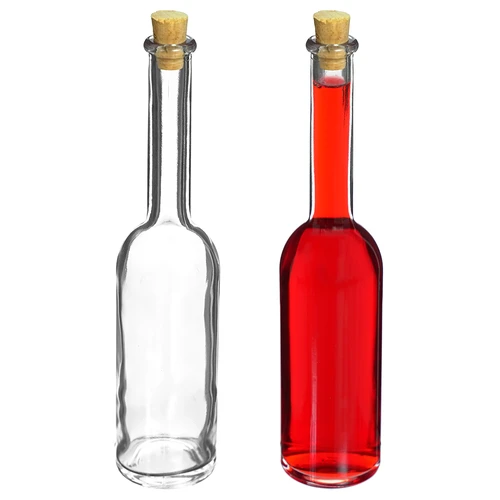glass_bottle: (264, 4, 395, 496), (101, 5, 230, 494)
